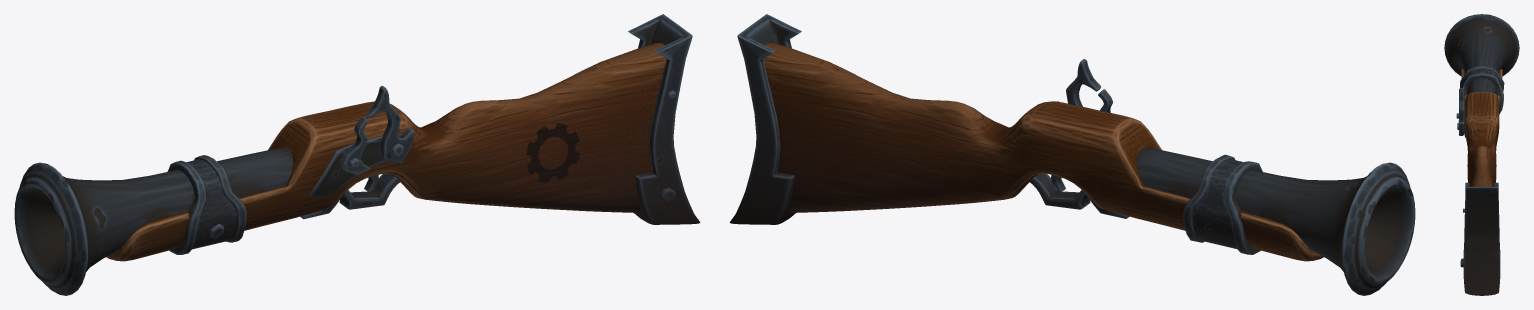
The model's file is Stylized_rifle_final.obj.
3 renders of one model, left to right at view 1: azimuth 30°, elevation 25°; view 2: azimuth 150°, elevation 25°; view 3: azimuth 270°, elevation 25°, orthographic. The views are drawn at different scales.
Visible parts, largest first — view 1: polySurface41, polySurface32, polySurface29, polySurface38, polySurface13, polySurface23, polySurface34, polySurface12, polySurface36, polySurface11; view 2: polySurface41, polySurface32, polySurface29, polySurface38, polySurface34, polySurface12, polySurface36, polySurface23; view 3: polySurface29, polySurface32, polySurface41, polySurface36, polySurface23, polySurface34, polySurface38.
Part boxes in pixels (x1,y1,x2,y2): polySurface41: (106,43,666,261); polySurface32: (14,147,292,295); polySurface29: (628,14,700,224); polySurface38: (187,159,237,249); polySurface13: (308,134,401,197); polySurface23: (365,85,414,163); polySurface34: (167,160,206,254); polySurface12: (339,173,400,209); polySurface36: (194,155,246,242); polySurface11: (340,116,370,174); polySurface41: (763,43,1323,261); polySurface32: (1137,147,1415,295); polySurface29: (729,14,801,224); polySurface38: (1192,159,1243,249); polySurface34: (1223,161,1262,254); polySurface12: (1028,173,1090,209); polySurface36: (1183,154,1235,242); polySurface23: (1057,59,1100,106); polySurface29: (1463,182,1500,295); polySurface32: (1444,14,1519,94); polySurface41: (1461,69,1502,186); polySurface36: (1462,72,1503,114); polySurface23: (1458,88,1464,135); polySurface34: (1460,65,1504,91); polySurface38: (1461,69,1502,89).
Size of the model in its own units: 45.96 by 15.01 by 8.41.
Materials: 1 (1 with a texture image).
